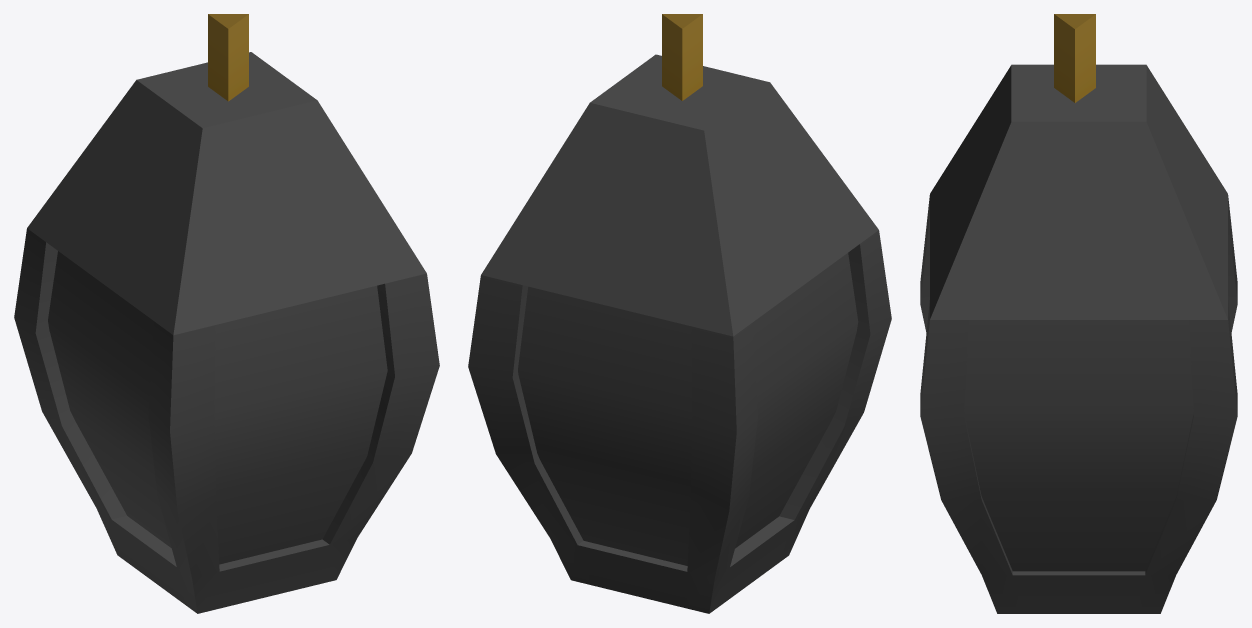
The model's file is lanterne.fbx.
3 renders of one model, left to right at view 1: azimuth 30°, elevation 25°; view 2: azimuth 150°, elevation 25°; view 3: azimuth 270°, elevation 25°, orthographic. The views are drawn at different scales.
Visible parts, largest first — view 1: lanterne; view 2: lanterne; view 3: lanterne.
Boxes of the visible parts, box(x1,y1,x2,y2) form: lanterne: box(14, 14, 439, 613); lanterne: box(468, 14, 891, 613); lanterne: box(920, 14, 1237, 613).
Size of the model in its own units: 1.43 by 2.78 by 1.43.
